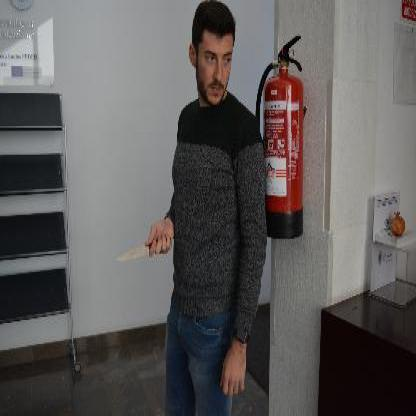knife: (115, 235, 158, 262)
